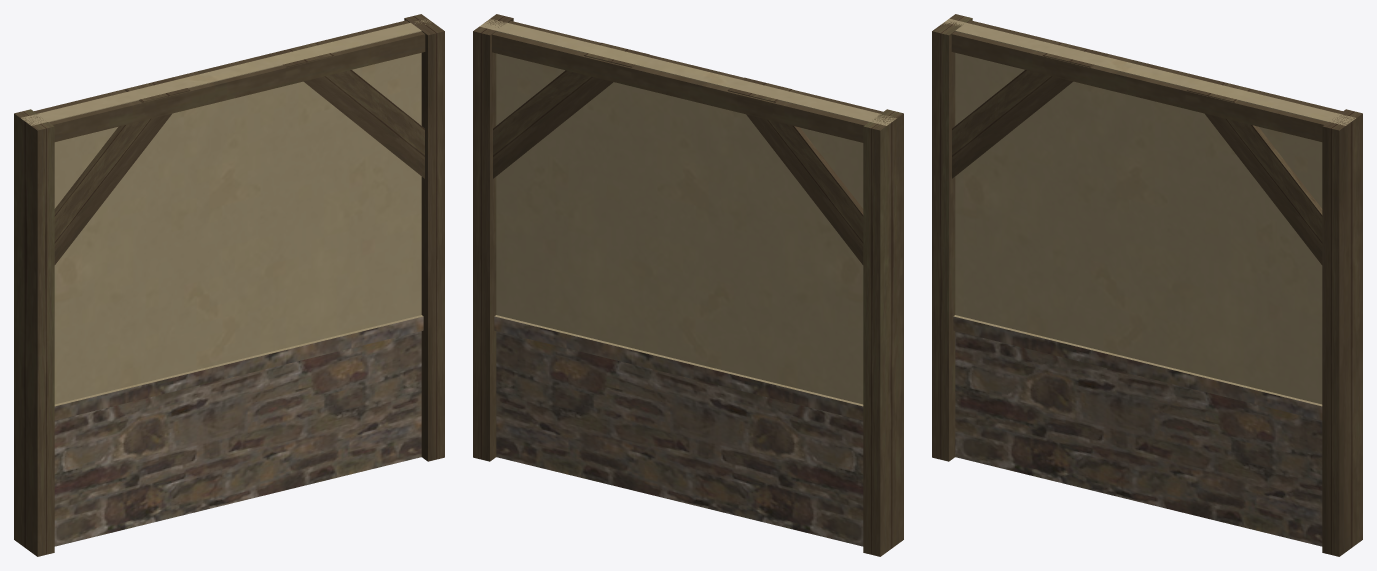
The model's file is wall01f_full.glb.
3 renders of one model, left to right at view 1: azimuth 30°, elevation 25°; view 2: azimuth 150°, elevation 25°; view 3: azimuth 330°, elevation 25°, orthographic.
Parts seen in each view (by area): view 1: wall01f_full; view 2: wall01f_full; view 3: wall01f_full.
Part boxes in pixels (left/top/right/bottom): wall01f_full: left=14, top=14, right=444, bottom=556; wall01f_full: left=473, top=14, right=903, bottom=556; wall01f_full: left=932, top=14, right=1362, bottom=556.
Bounding box in the file's own units: 3 × 3 × 0.3.
3 materials, 3 textured.
